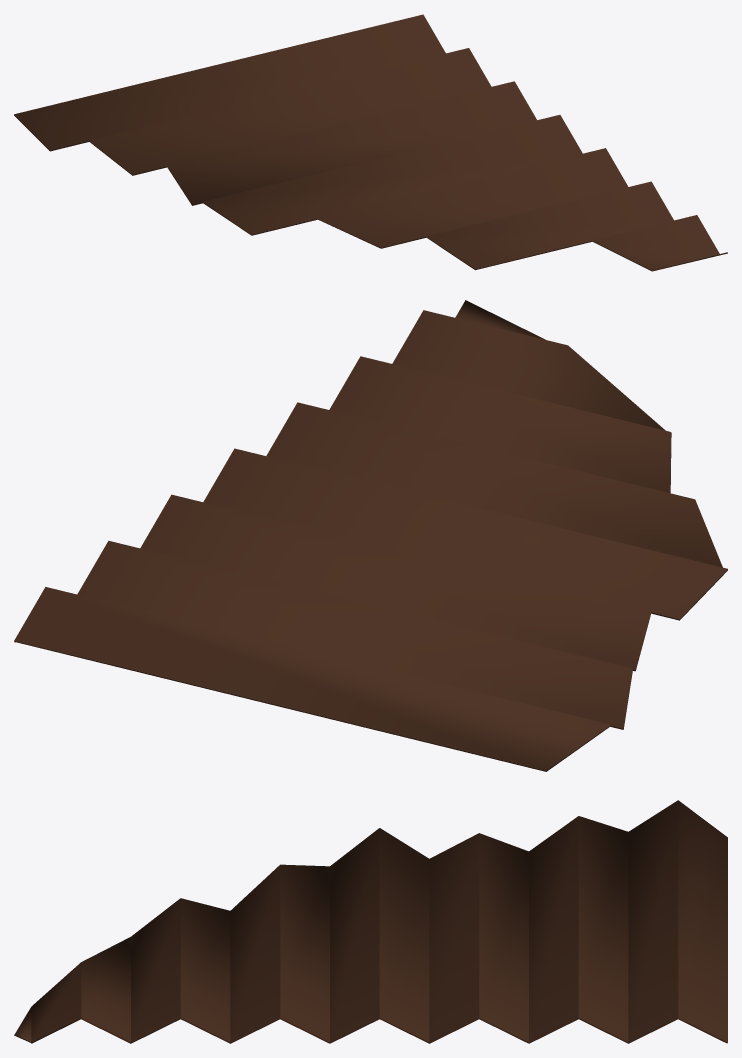
Rendered from scrap2.fbx.
3 renders of one model, top to bottom at view 1: azimuth 30°, elevation 25°; view 2: azimuth 150°, elevation 25°; view 3: azimuth 270°, elevation 25°, orthographic. The views are drawn at different scales.
Visible parts, largest first — view 1: part1; view 2: part1; view 3: part1.
Part boxes in pixels (x1,y1,x2,y2): part1: (14,14,727,271); part1: (14,300,727,771); part1: (14,800,727,1043).
Size of the model in its own units: 34.6 by 1.92 by 47.94.
